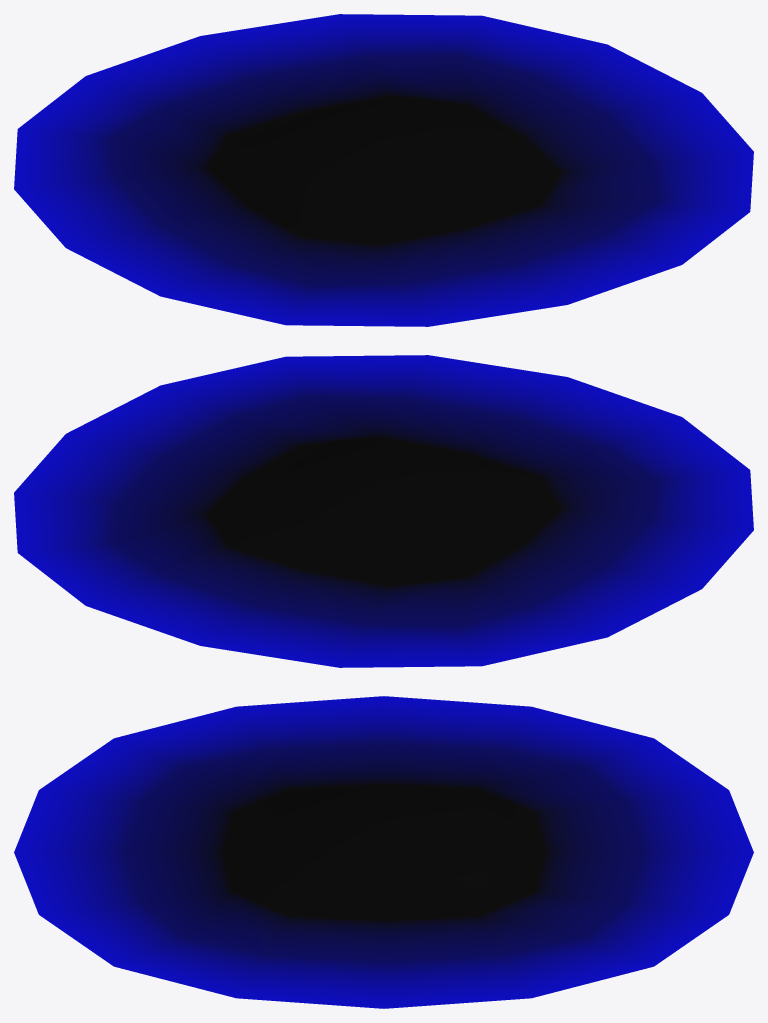
Rendered from Cave_FloorRockPile02.fbx.
The picture shows the model from 3 angles, top to bottom: view 1: azimuth 30°, elevation 25°; view 2: azimuth 150°, elevation 25°; view 3: azimuth 270°, elevation 25°; orthographic projection.
Visible parts, largest first — view 1: Cave_FloorRockPile02; view 2: Cave_FloorRockPile02; view 3: Cave_FloorRockPile02.
Boxes of the visible parts, x1,y1,x2,y2 form: Cave_FloorRockPile02: (14,14,753,326); Cave_FloorRockPile02: (14,355,753,667); Cave_FloorRockPile02: (14,696,753,1008).
Bounding box in the file's own units: 2.99 × 0.1368 × 2.99.
